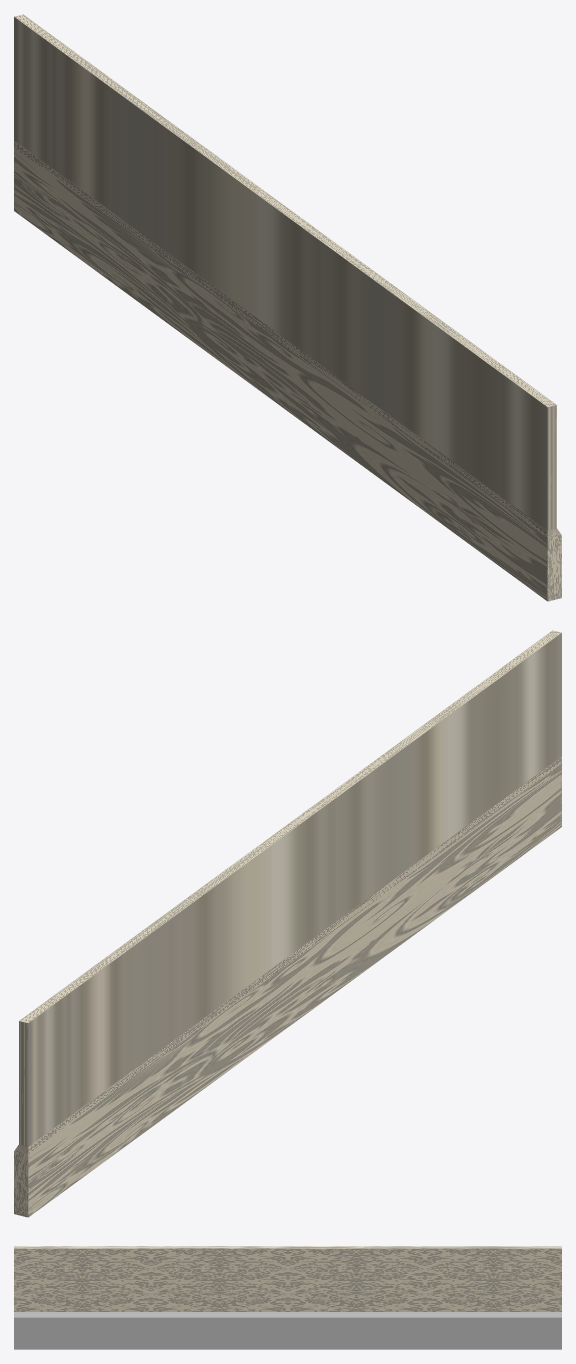
The model's file is SideWall.fbx.
The picture shows the model from 3 angles, top to bottom: view 1: azimuth 30°, elevation 25°; view 2: azimuth 150°, elevation 25°; view 3: azimuth 270°, elevation 25°; orthographic projection. The views are drawn at different scales.
Visible parts, largest first — view 1: SideWall; view 2: SideWall; view 3: SideWall.
Boxes of the visible parts, box(x1,y1,x2,y2) form: SideWall: box(14, 14, 561, 601); SideWall: box(14, 630, 561, 1217); SideWall: box(14, 1246, 561, 1349).
Size of the model in its own units: 31.34 by 406 by 2023.
